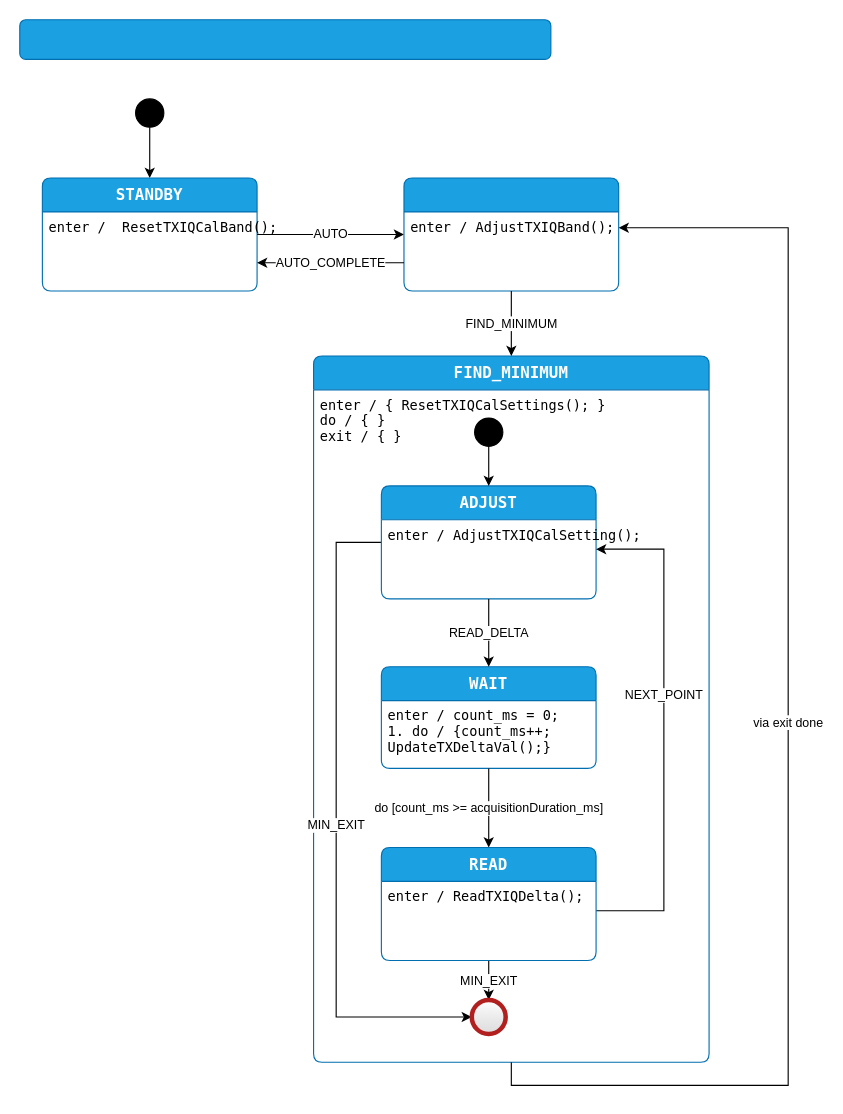
Image size: 843x1114. Some labels were removed from this diagram. The shapes that lost their labels are listed below. From the top down, each one's box as (x1, y1, x2, y2) in pixels, then its label:
(19, 19, 551, 59): $STATEMACHINE : TransmitIQCalSm
(403, 177, 619, 291): BAND_ADJUST
(469, 997, 507, 1036): exit : done
